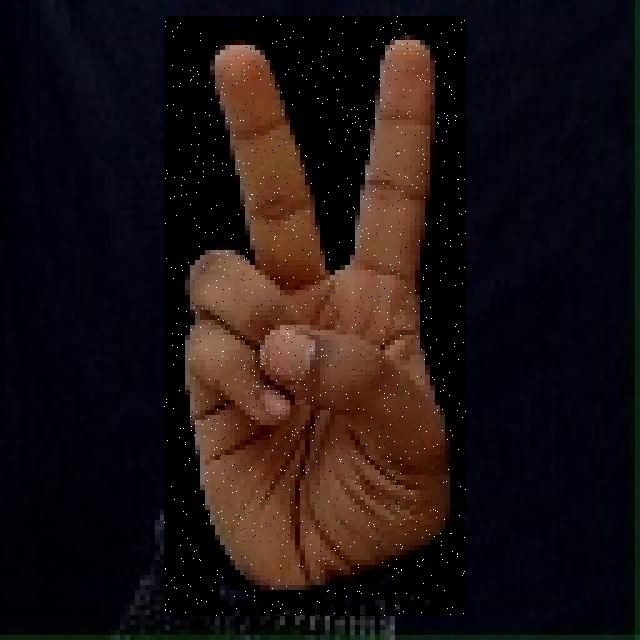No: (165, 16, 466, 616)
